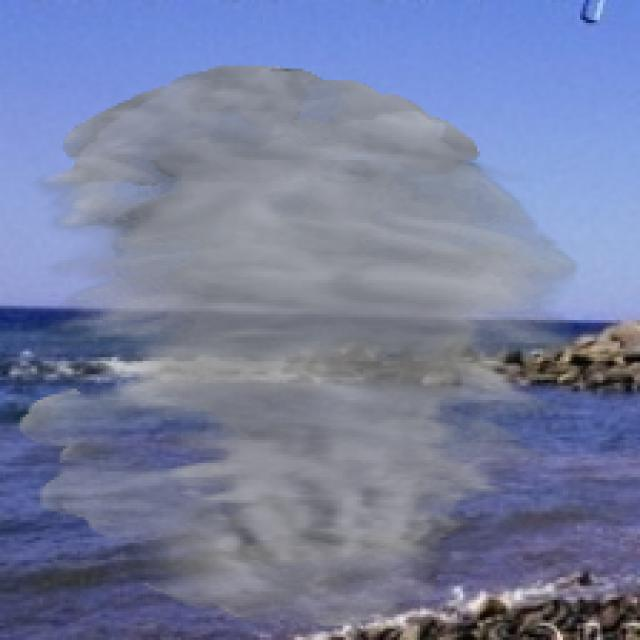smoke: (17, 66, 583, 628)
